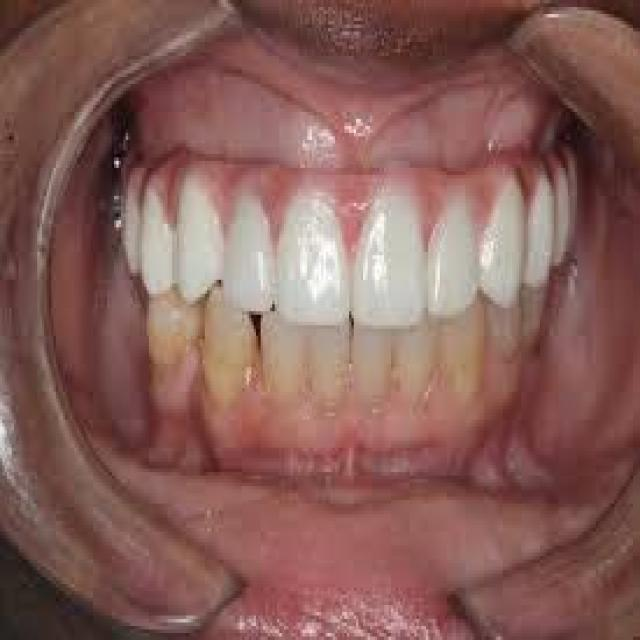tooth: (354, 175, 428, 325), (277, 186, 354, 326), (170, 164, 226, 301), (428, 192, 482, 322), (221, 189, 272, 322), (205, 283, 258, 406), (482, 165, 526, 312), (144, 294, 210, 388), (256, 300, 310, 406), (440, 294, 489, 406), (137, 165, 177, 298), (349, 304, 396, 406), (310, 311, 354, 413), (396, 308, 438, 395), (528, 165, 554, 298)
